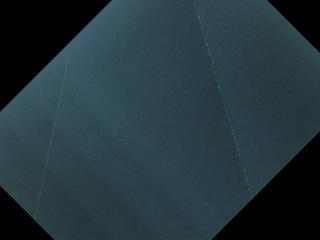crack: (190, 0, 255, 200), (32, 43, 76, 221)
